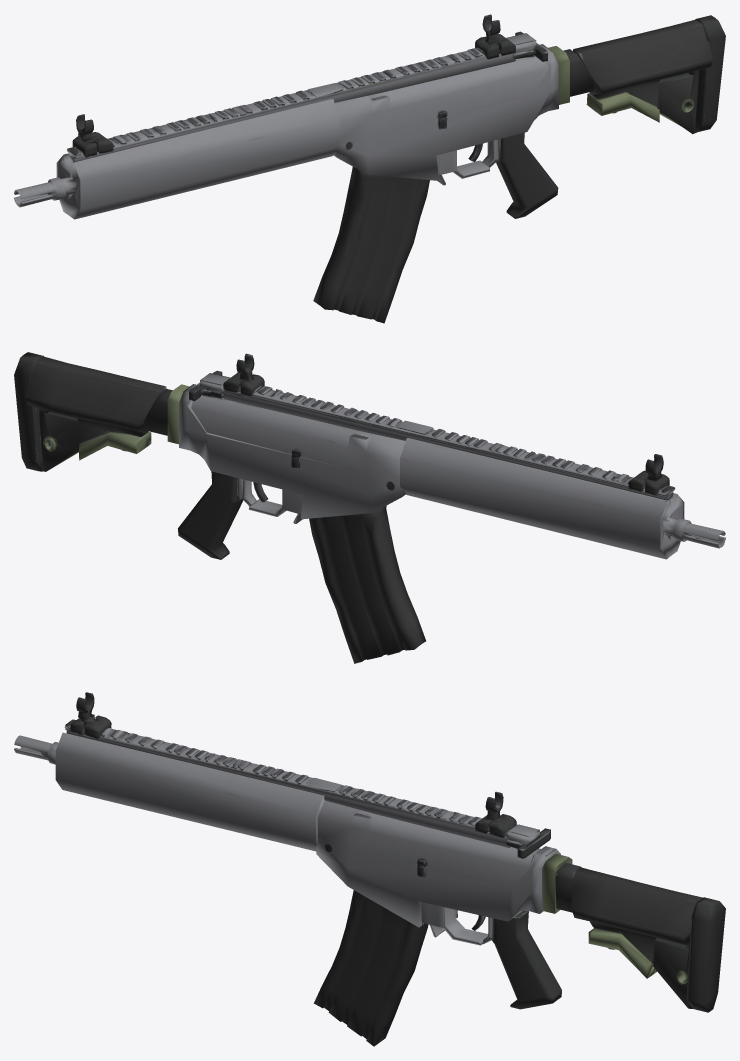
Rendered from ar_halcyon.glb.
The picture shows the model from 3 angles, top to bottom: view 1: azimuth 30°, elevation 25°; view 2: azimuth 150°, elevation 25°; view 3: azimuth 330°, elevation 25°; orthographic projection.
Bounding box in the file's own units: 0.9575 × 0.3579 × 0.0742.
Materials: 1 (1 with a texture image).
